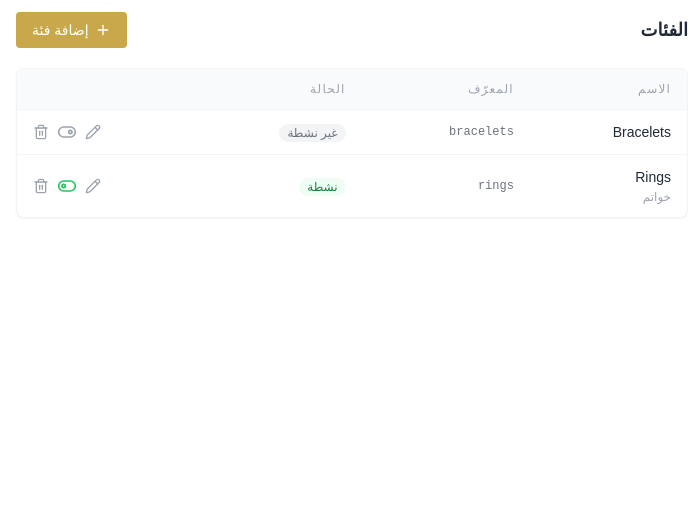
Scenario: categories in Arabic (NEX-64) › leaves no English behind — list and new-category form
The image size is (700, 527).
Click the button "إضافة فئة": [71, 30] box [16, 12, 127, 48]
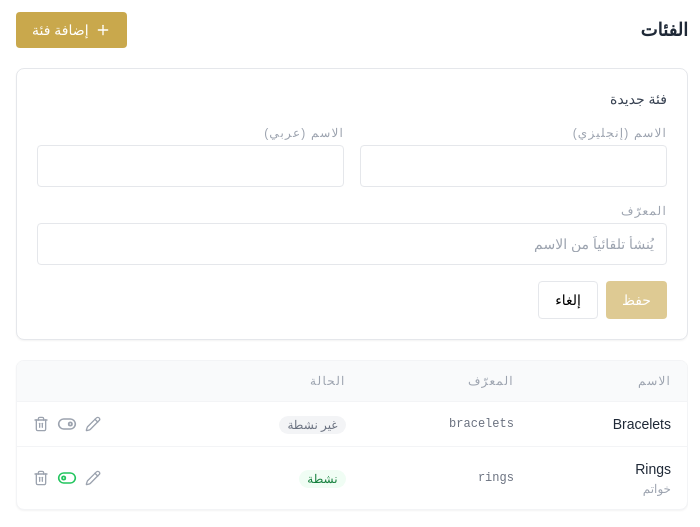
Expected: the heading "الفئات" is shown, [640, 16, 688, 44]
Result: the text "فئة جديدة" is shown at [610, 91, 667, 107]
